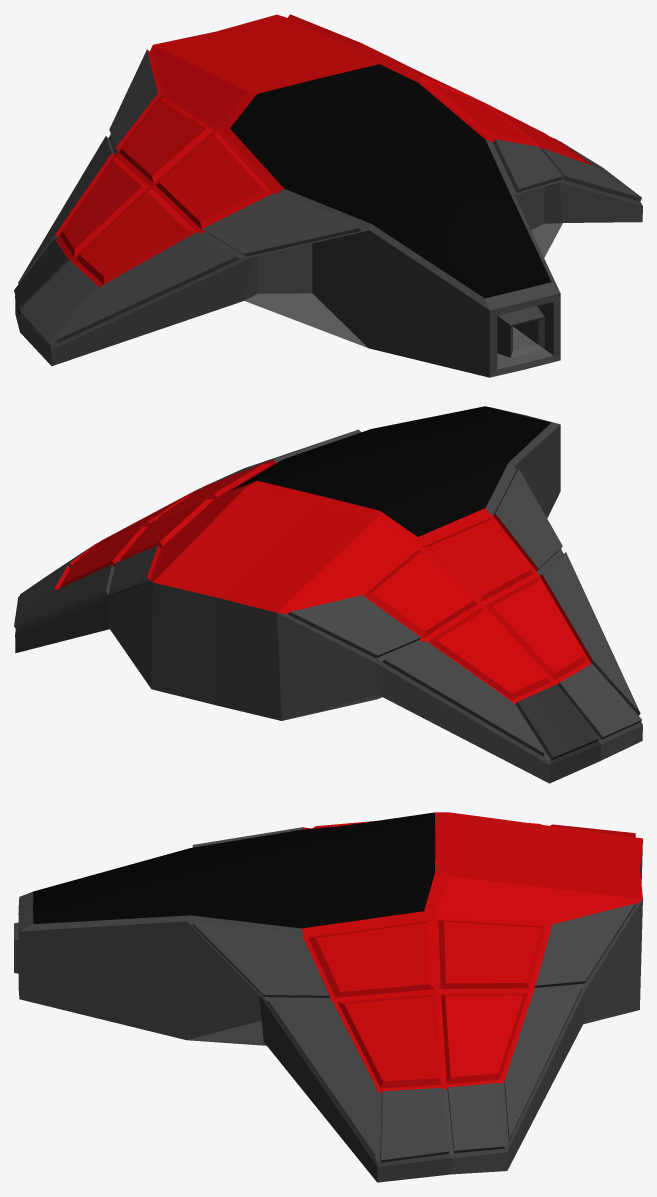
The model's file is ship.glb.
3 renders of one model, top to bottom at view 1: azimuth 30°, elevation 25°; view 2: azimuth 150°, elevation 25°; view 3: azimuth 270°, elevation 25°, orthographic.
Visible parts, largest first — view 1: Ship; view 2: Ship; view 3: Ship.
Part boxes in pixels (<box>): Ship: <box>14,14,642,377</box>; Ship: <box>14,406,642,783</box>; Ship: <box>14,812,642,1182</box>.
Size of the model in its own units: 15.41 by 4.88 by 14.06.
Materials: 1 (1 with a texture image).
